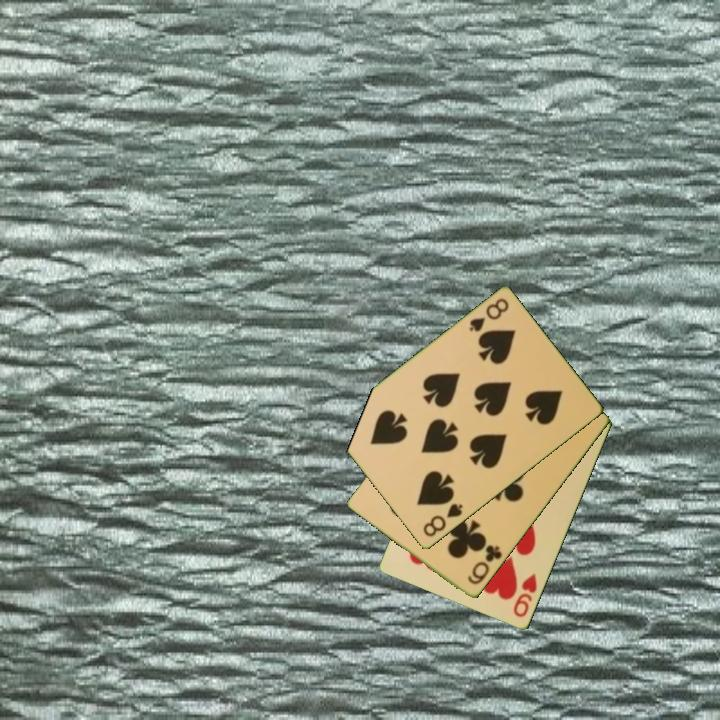6c: (464, 541, 505, 588)
8s: (419, 500, 466, 540), (465, 295, 512, 335)
9h: (510, 571, 540, 621)
